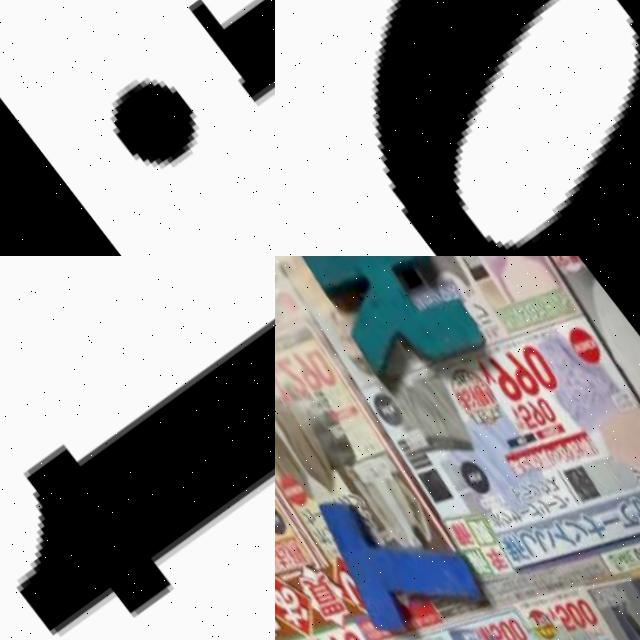D: (275, 0, 640, 256)
J: (24, 0, 275, 214)
K: (280, 256, 504, 408)
T: (0, 256, 275, 640), (295, 447, 491, 640)
